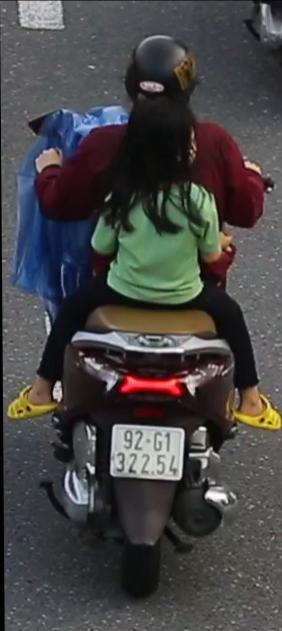LP: (106, 419, 187, 488)
helmet: (109, 27, 217, 127)
no helmet: (118, 90, 204, 202)
